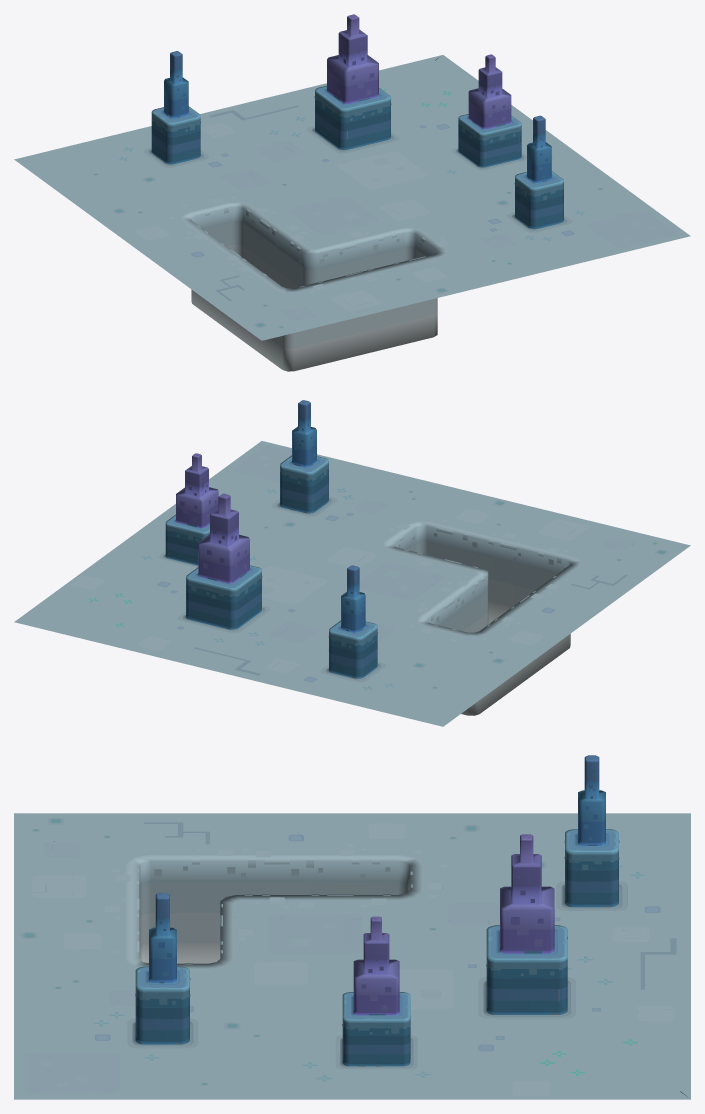
The model's file is C_mountain2_01.fbx.
3 renders of one model, top to bottom at view 1: azimuth 30°, elevation 25°; view 2: azimuth 150°, elevation 25°; view 3: azimuth 270°, elevation 25°, orthographic. The views are drawn at different scales.
Parts seen in each view (by area): view 1: C_mountain2_01; view 2: C_mountain2_01; view 3: C_mountain2_01.
Part boxes in pixels (x1,y1,x2,y2): C_mountain2_01: [14, 14, 690, 371]; C_mountain2_01: [14, 400, 690, 726]; C_mountain2_01: [14, 755, 690, 1099].
Size of the model in its own units: 50 by 22.52 by 50.
1 material, 1 textured.
